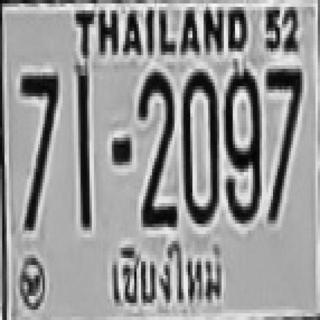N00: (181, 69, 217, 224), (224, 67, 260, 222)
N01: (76, 67, 90, 222)
N02: (138, 69, 176, 224), (136, 69, 174, 210)
N07: (19, 72, 57, 227), (265, 65, 301, 220), (19, 72, 57, 175), (264, 65, 300, 169)
N09: (224, 67, 260, 218)
P11: (100, 241, 229, 310)
